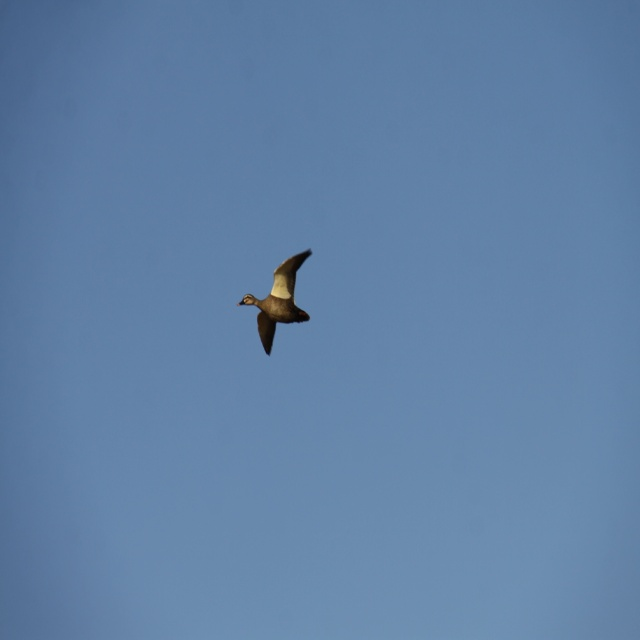Duck: (235, 253, 312, 339)
